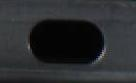holes: (26, 17, 106, 65)
